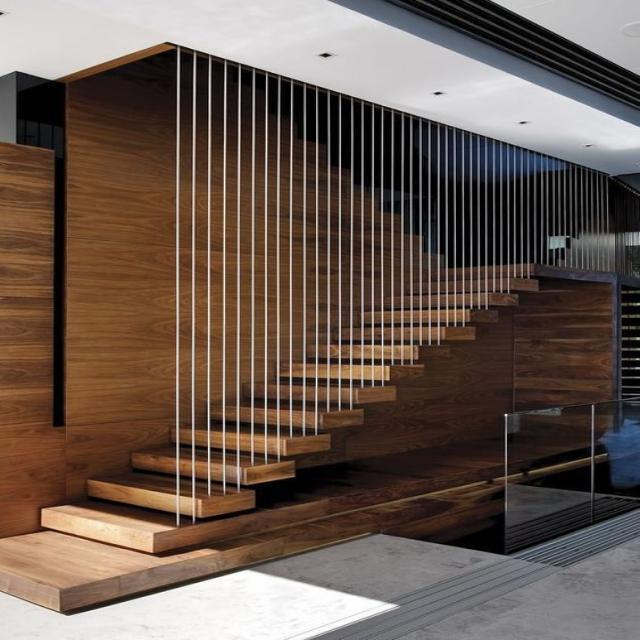stairs: (1, 62, 636, 615)
